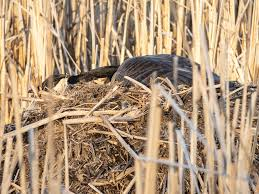goose: (24, 53, 259, 110)
